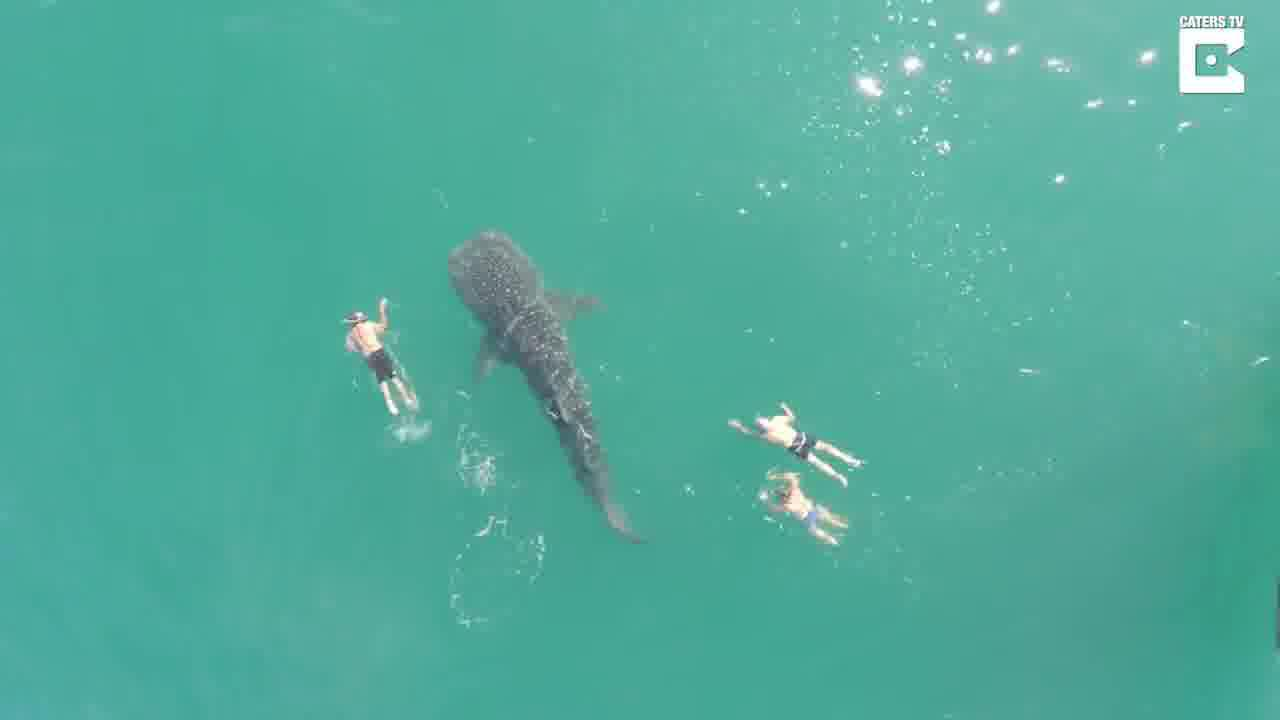human: (727, 401, 863, 490), (338, 302, 418, 419), (748, 471, 849, 553)
